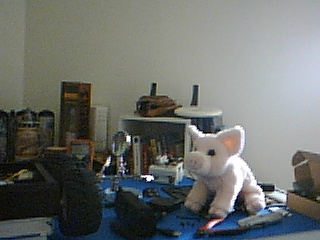piggy: (184, 124, 267, 218)
